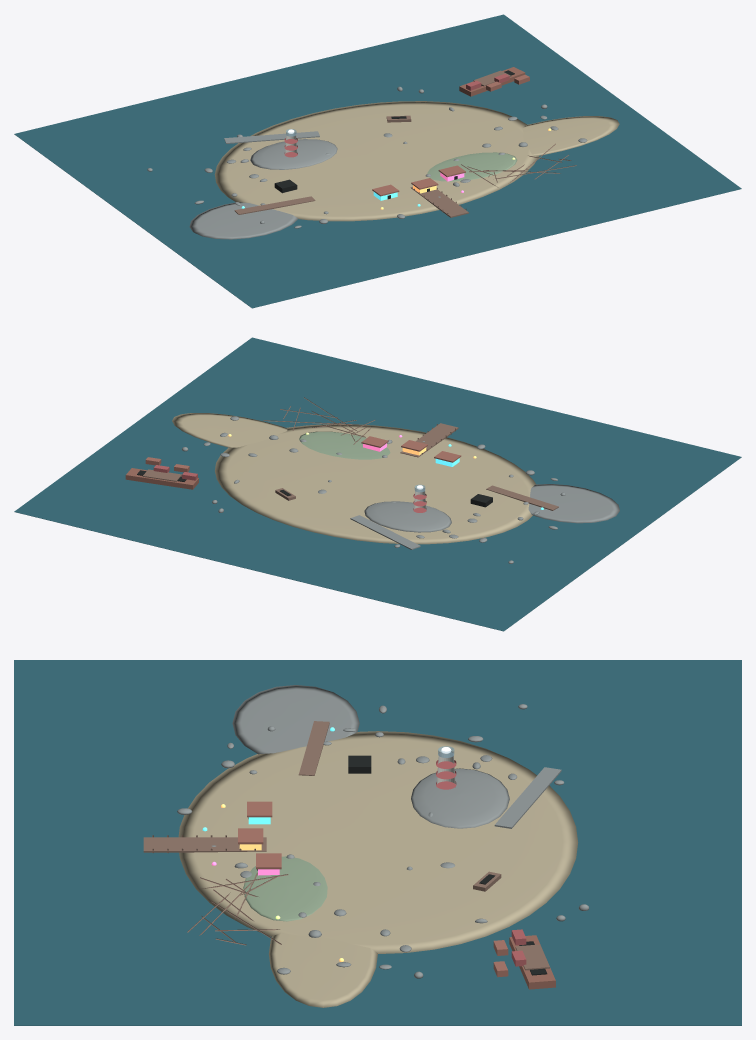
File: level_09_ilha_que_chama_ocean.glb
The picture shows the model from 3 angles, top to bottom: view 1: azimuth 30°, elevation 25°; view 2: azimuth 150°, elevation 25°; view 3: azimuth 270°, elevation 25°; orthographic projection. The views are drawn at different scales.
Parts seen in each view (by area): view 1: surrounding_dark_ocean, main_irregular_island, west_tidepool_islet, east_sandbar_explorable, north_rocky_headland, south_marsh_headland, long_wooden_dock, cliff_path_to_lighthouse; view 2: surrounding_dark_ocean, main_irregular_island, west_tidepool_islet, east_sandbar_explorable, north_rocky_headland, south_marsh_headland, cliff_path_to_lighthouse, long_wooden_dock, wrecked_freighter_hull_large; view 3: surrounding_dark_ocean, main_irregular_island, west_tidepool_islet, east_sandbar_explorable, north_rocky_headland, south_marsh_headland, long_wooden_dock, cliff_path_to_lighthouse, tidepool_plank_bridge, wrecked_freighter_hull_large.
Part boxes in pixels (x1=…): surrounding_dark_ocean: x1=14, y1=14, x2=741, y2=308; main_irregular_island: x1=214, y1=101, x2=539, y2=221; west_tidepool_islet: x1=189, y1=202, x2=298, y2=239; east_sandbar_explorable: x1=522, y1=116, x2=619, y2=155; north_rocky_headland: x1=250, y1=139, x2=337, y2=169; south_marsh_headland: x1=427, y1=152, x2=517, y2=181; long_wooden_dock: x1=410, y1=187, x2=468, y2=217; cliff_path_to_lighthouse: x1=224, y1=131, x2=319, y2=143; surrounding_dark_ocean: x1=14, y1=337, x2=741, y2=631; main_irregular_island: x1=215, y1=424, x2=535, y2=544; west_tidepool_islet: x1=528, y1=484, x2=619, y2=523; east_sandbar_explorable: x1=172, y1=413, x2=287, y2=447; north_rocky_headland: x1=364, y1=501, x2=451, y2=532; south_marsh_headland: x1=299, y1=431, x2=390, y2=459; cliff_path_to_lighthouse: x1=350, y1=515, x2=420, y2=549; long_wooden_dock: x1=400, y1=423, x2=458, y2=457; wrecked_freighter_hull_large: x1=125, y1=468, x2=198, y2=489; surrounding_dark_ocean: x1=14, y1=660, x2=741, y2=1025; main_irregular_island: x1=178, y1=731, x2=578, y2=953; west_tidepool_islet: x1=232, y1=685, x2=359, y2=754; east_sandbar_explorable: x1=269, y1=933, x2=377, y2=1007; north_rocky_headland: x1=411, y1=768, x2=509, y2=828; south_marsh_headland: x1=243, y1=856, x2=327, y2=921; long_wooden_dock: x1=143, y1=837, x2=266, y2=852; cliff_path_to_lighthouse: x1=494, y1=767, x2=561, y2=828; tidepool_plank_bridge: x1=298, y1=721, x2=329, y2=775; wrecked_freighter_hull_large: x1=509, y1=935, x2=555, y2=989.
Size of the model in its own units: 190 by 12.32 by 160.
